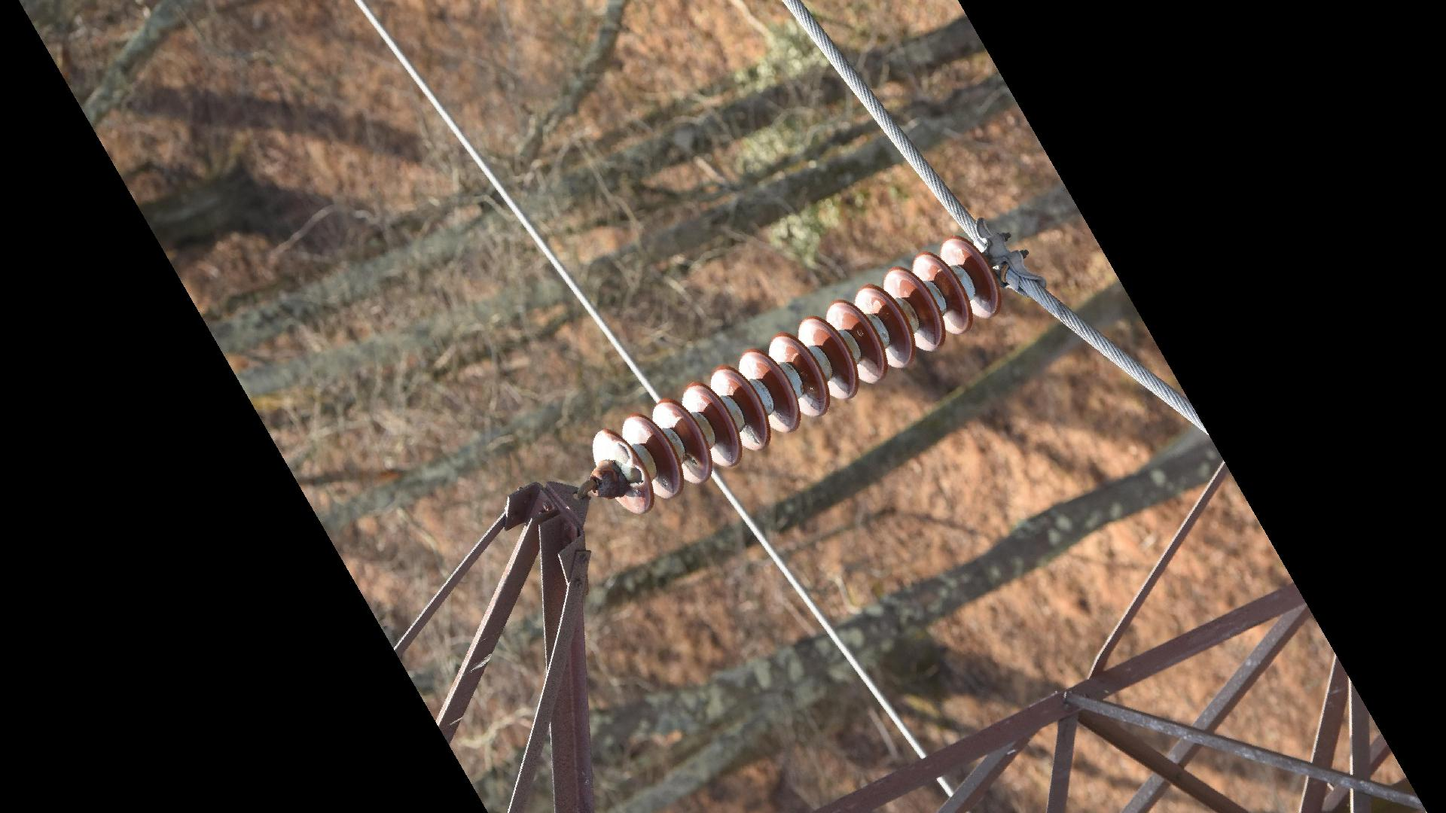insulator: (587, 233, 1007, 520)
insulator_flashover: (609, 440, 645, 487), (742, 422, 765, 446), (682, 451, 704, 472)
